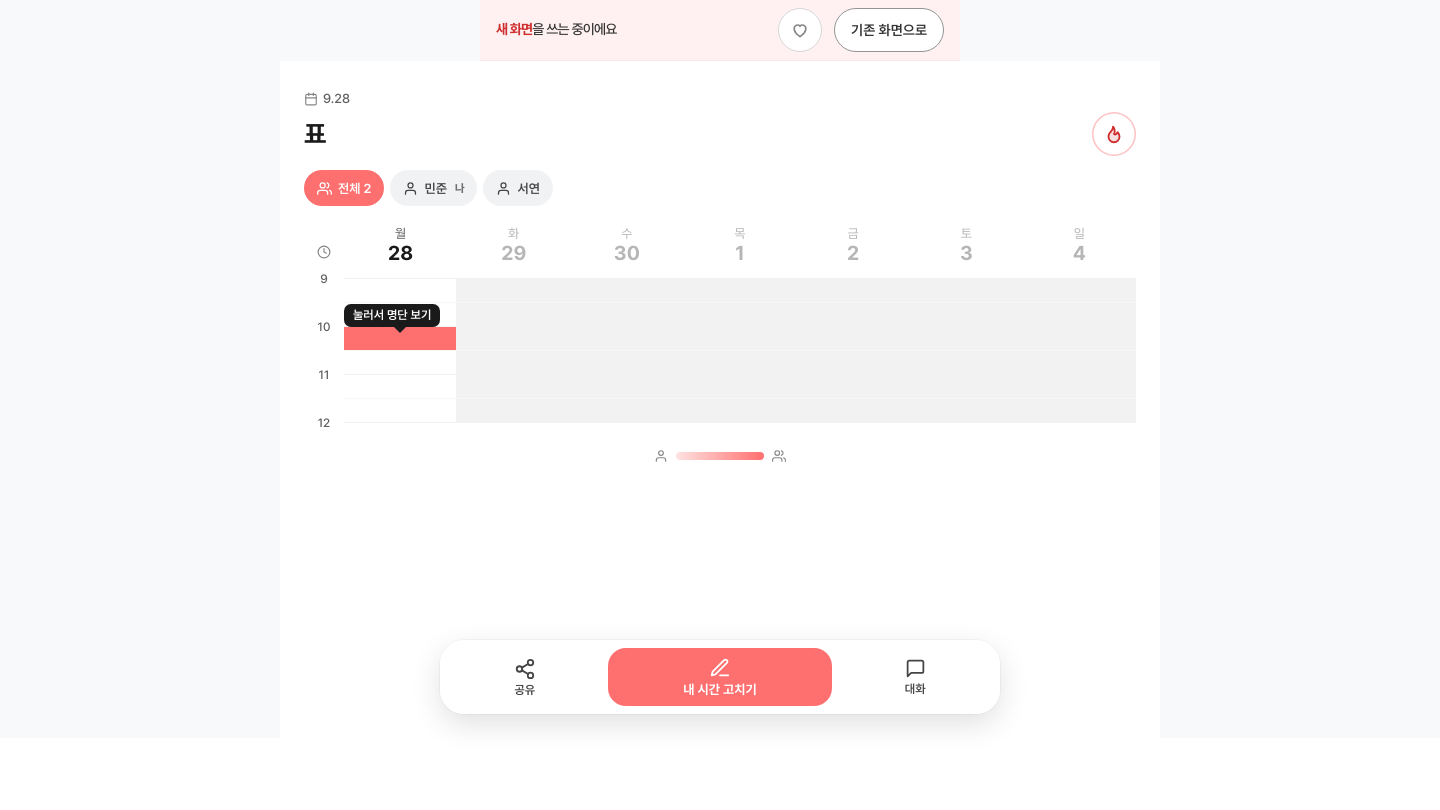
Test: B에서 저장 뒤 재조회가 실패한 채 A로 바꾸면 A는 오류 안내뿐이라 ui_view A를 남기지 않는다
Click the button "내 시간 고치기": (720, 677) [608,648,832,706]
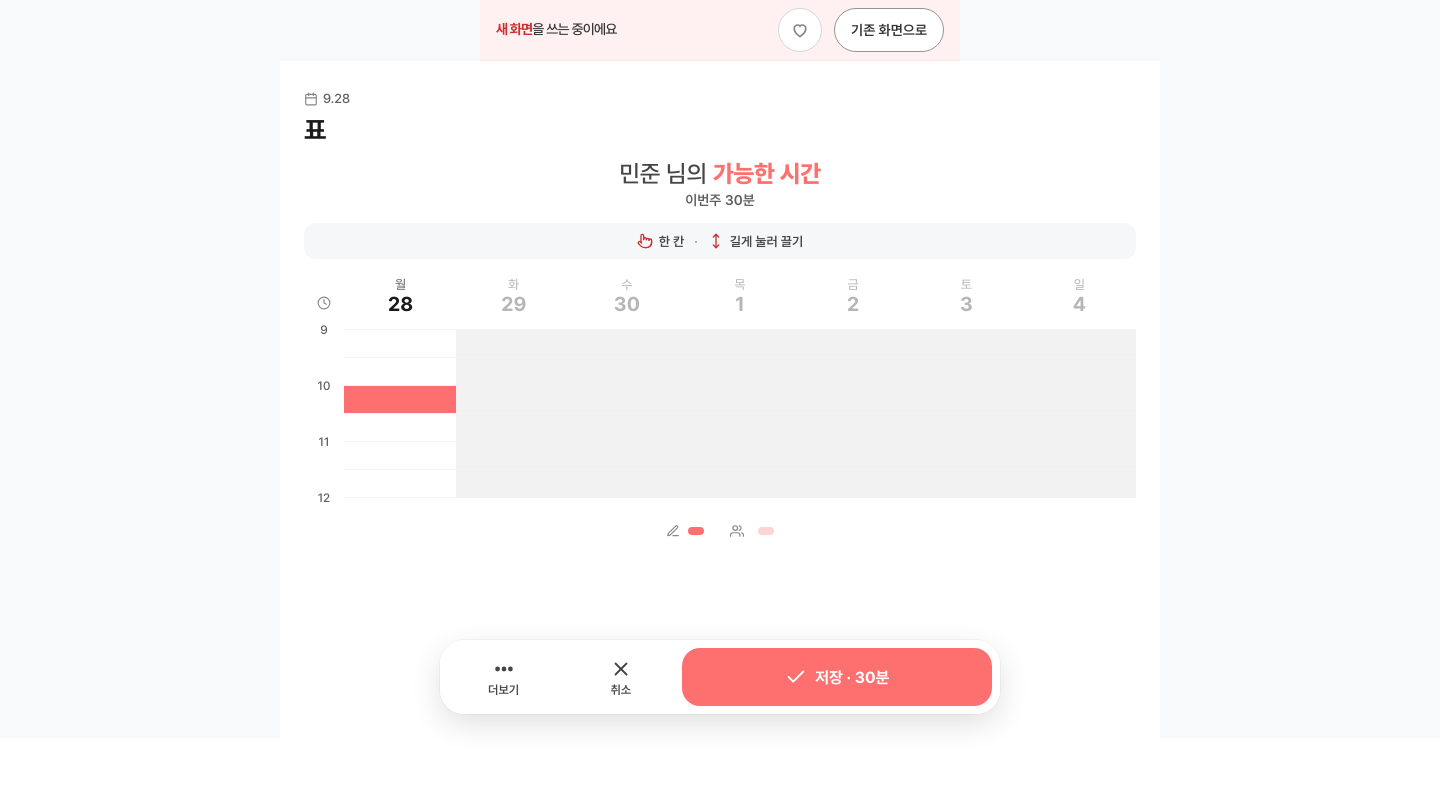
Click the button named "9월 28일 (월) 하루 전체 칠하기·지우기": (401, 298) [344,273,457,322]
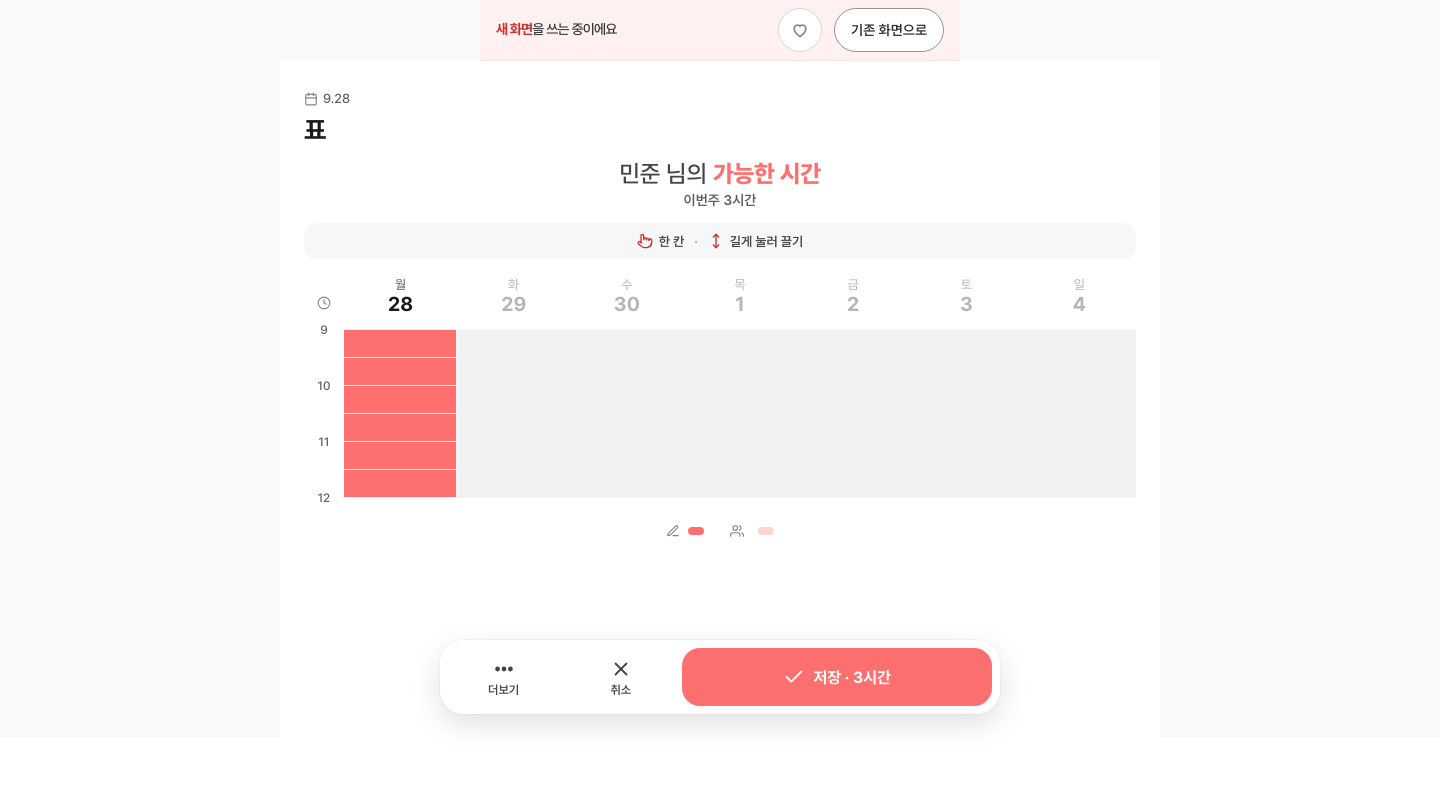
Click the button with aria-label "저장하기": (837, 677) [682,648,992,706]
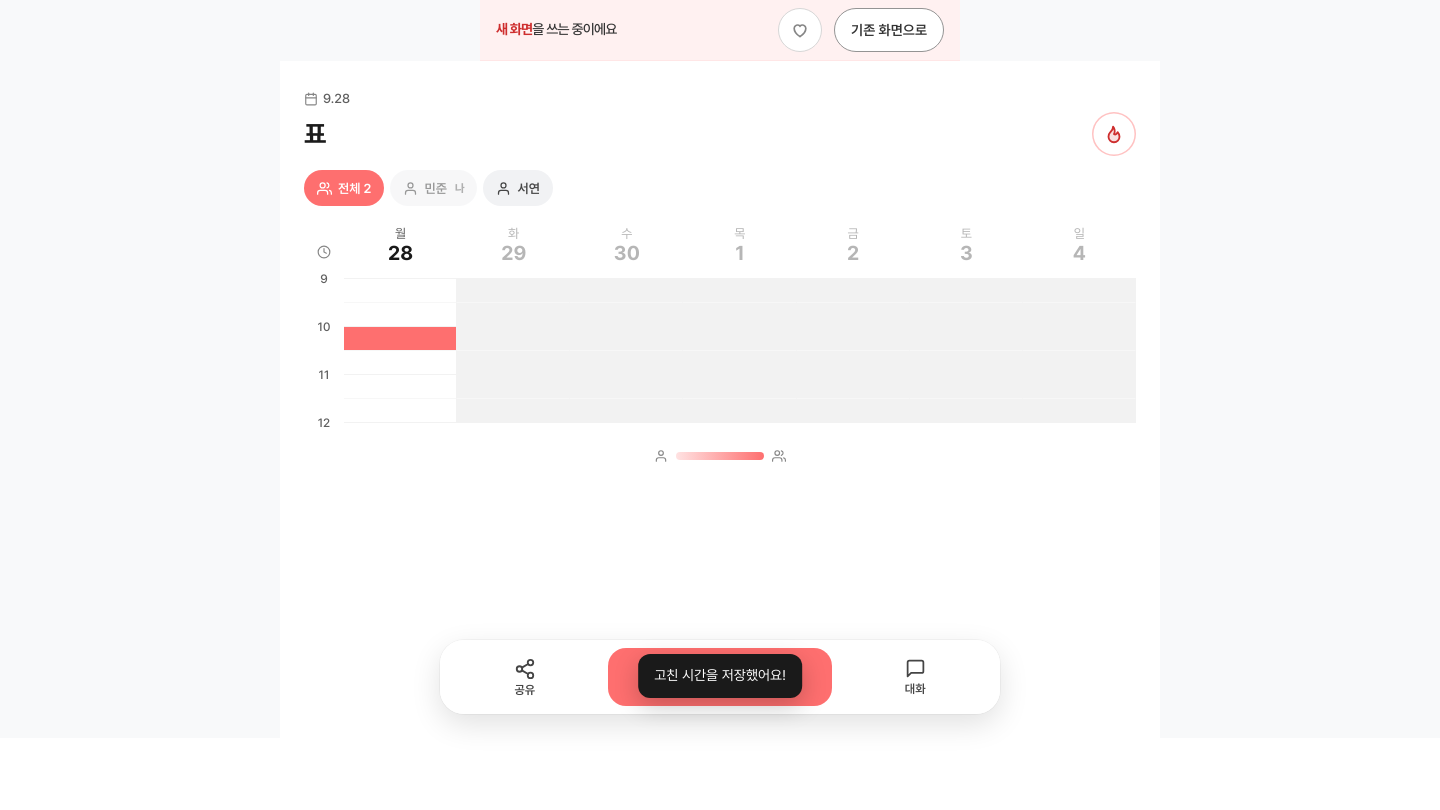
Click the button "기존 화면으로": (889, 30) [834,8,944,52]
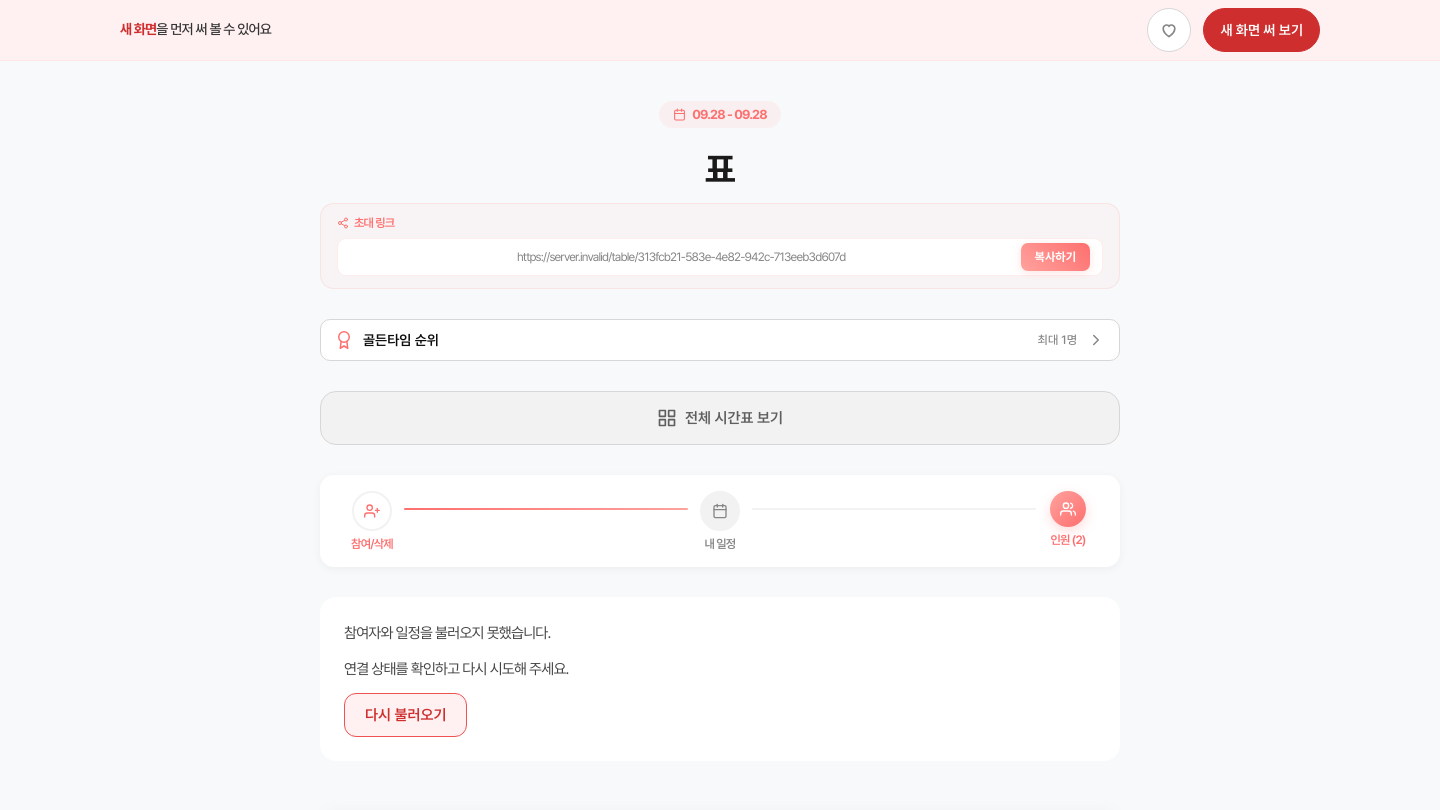
Result: the text "참여자와 일정을 불러오지 못했습니다." is shown at [344,624,550,642]
